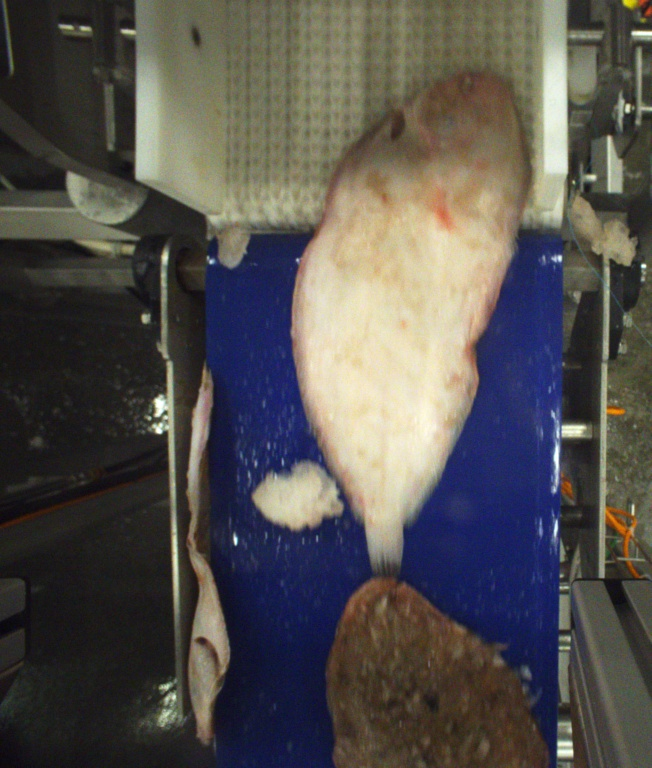SOL: (323, 578, 551, 768)
